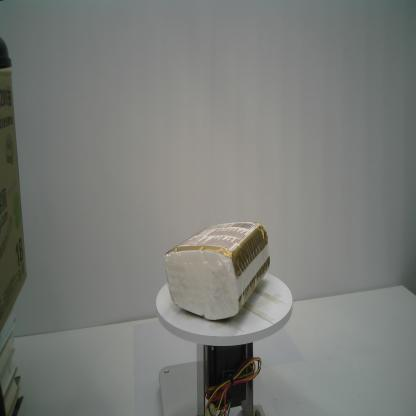Tissue: (165, 221, 270, 321)
